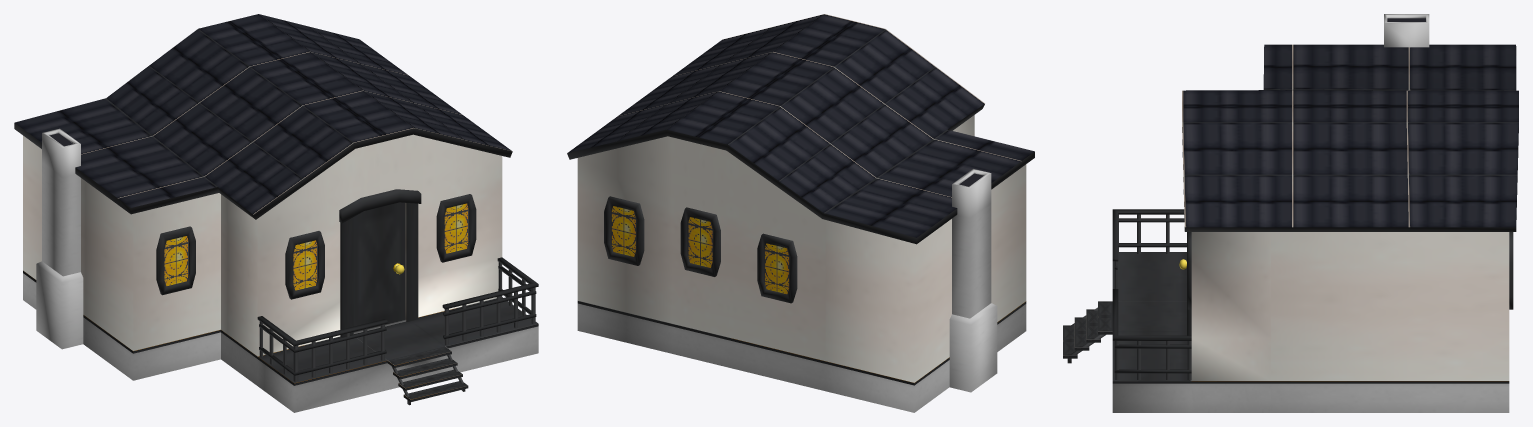
Rendered from Town Houses Variant 1 (Blue).fbx.
3 renders of one model, left to right at view 1: azimuth 30°, elevation 25°; view 2: azimuth 150°, elevation 25°; view 3: azimuth 270°, elevation 25°, orthographic. The views are drawn at different scales.
Visible parts, largest first — view 1: Town House 1 V3; view 2: Town House 1 V3; view 3: Town House 1 V3.
Boxes of the visible parts, <box> form: Town House 1 V3: <box>14,14,538,412</box>; Town House 1 V3: <box>567,14,1034,412</box>; Town House 1 V3: <box>1063,14,1518,412</box>.
Bounding box in the file's own units: 826 × 490 × 836.
1 material, 1 textured.
